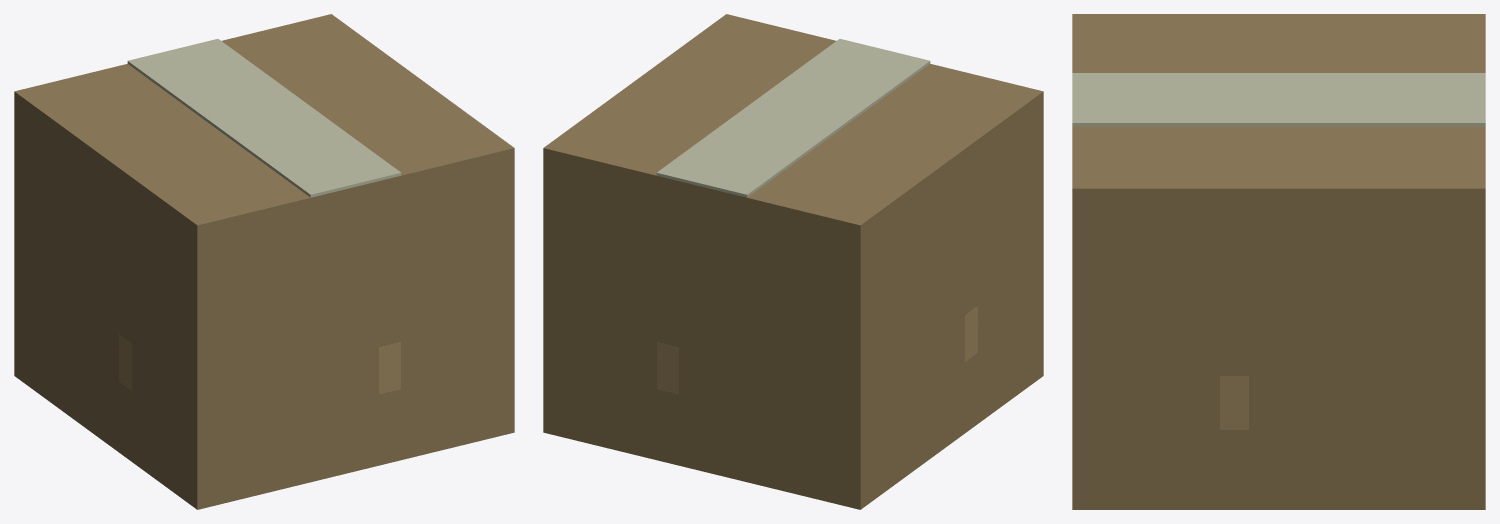
The model's file is cardboard_box.gltf.
3 views of the same model, side by side, from view 1: azimuth 30°, elevation 25°; view 2: azimuth 150°, elevation 25°; view 3: azimuth 270°, elevation 25° (orthographic). The views are drawn at different scales.
Parts seen in each view (by area): view 1: body, tape; view 2: body, tape; view 3: body, tape.
Part boxes in pixels (box(x1,y1,x2,y2)): body: box(14, 14, 514, 509); tape: box(127, 39, 401, 197); body: box(543, 14, 1043, 509); tape: box(656, 39, 930, 197); body: box(1072, 14, 1485, 509); tape: box(1072, 73, 1485, 126).
Size of the model in its own units: 0.875 by 0.7578 by 0.875.
2 materials, 2 textured.
